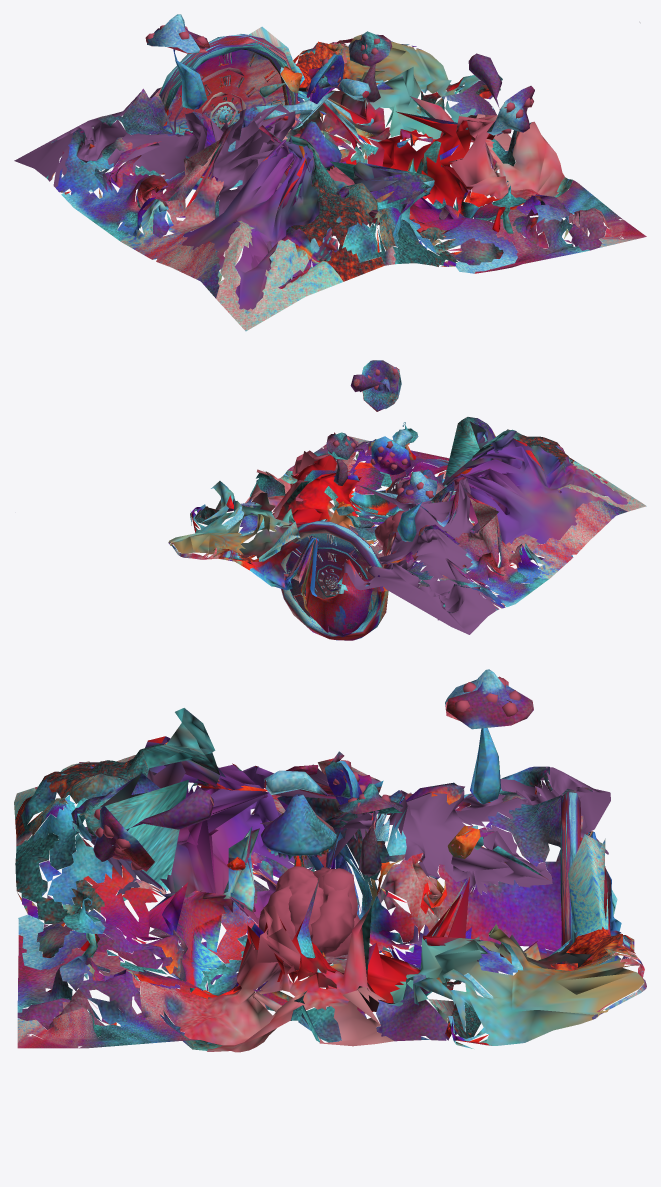
The model's file is mionet.glb.
The picture shows the model from 3 angles, top to bottom: view 1: azimuth 30°, elevation 25°; view 2: azimuth 150°, elevation 25°; view 3: azimuth 270°, elevation 25°; orthographic projection. The views are drawn at different scales.
Parts seen in each view (by area): view 1: tronc.001; view 2: tronc.001; view 3: tronc.001.
Boxes of the visible parts, box(x1,y1,x2,y2) form: tronc.001: box(14, 14, 646, 331); tronc.001: box(168, 360, 646, 640); tronc.001: box(14, 669, 646, 1052).
Size of the model in its own units: 31.64 by 10.66 by 22.1.
1 material, 1 textured.
